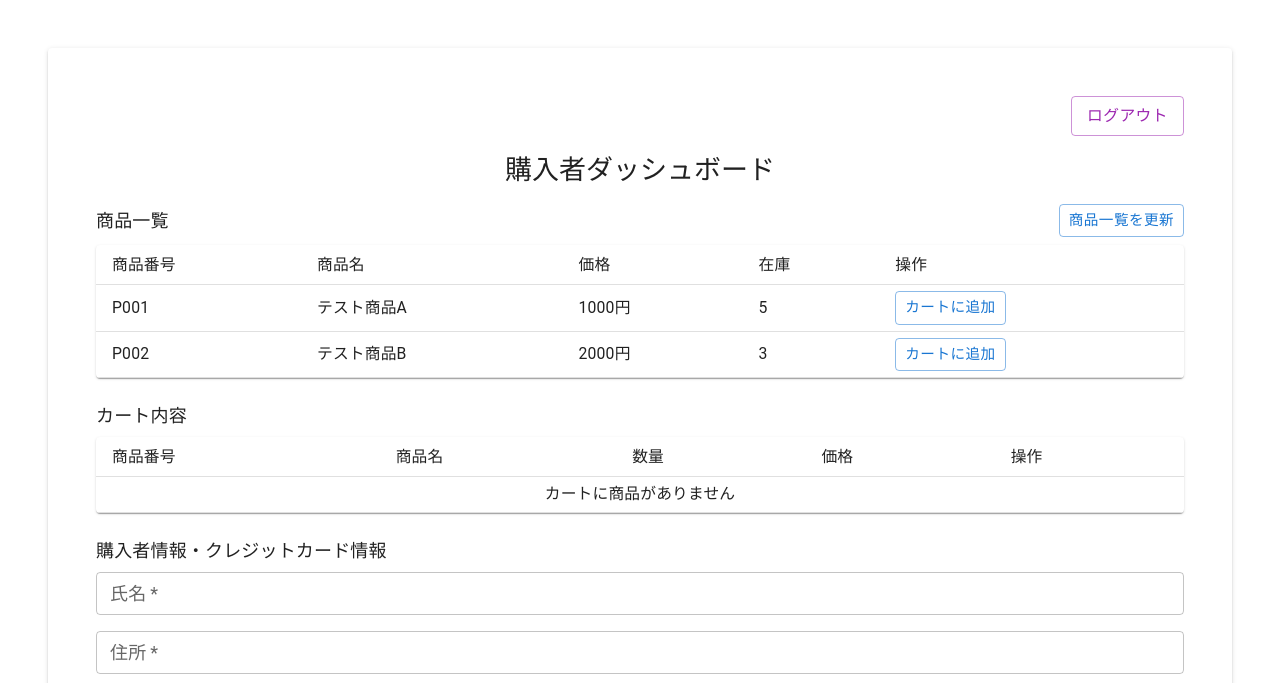
Test case: PurchaserDashboard › カートに商品を追加・削除できる
The image size is (1280, 683).
Note: 商品をカートに追加
Click the button "カートに追加" in the row of "P001" at [950, 308], box [895,291,1006,325]
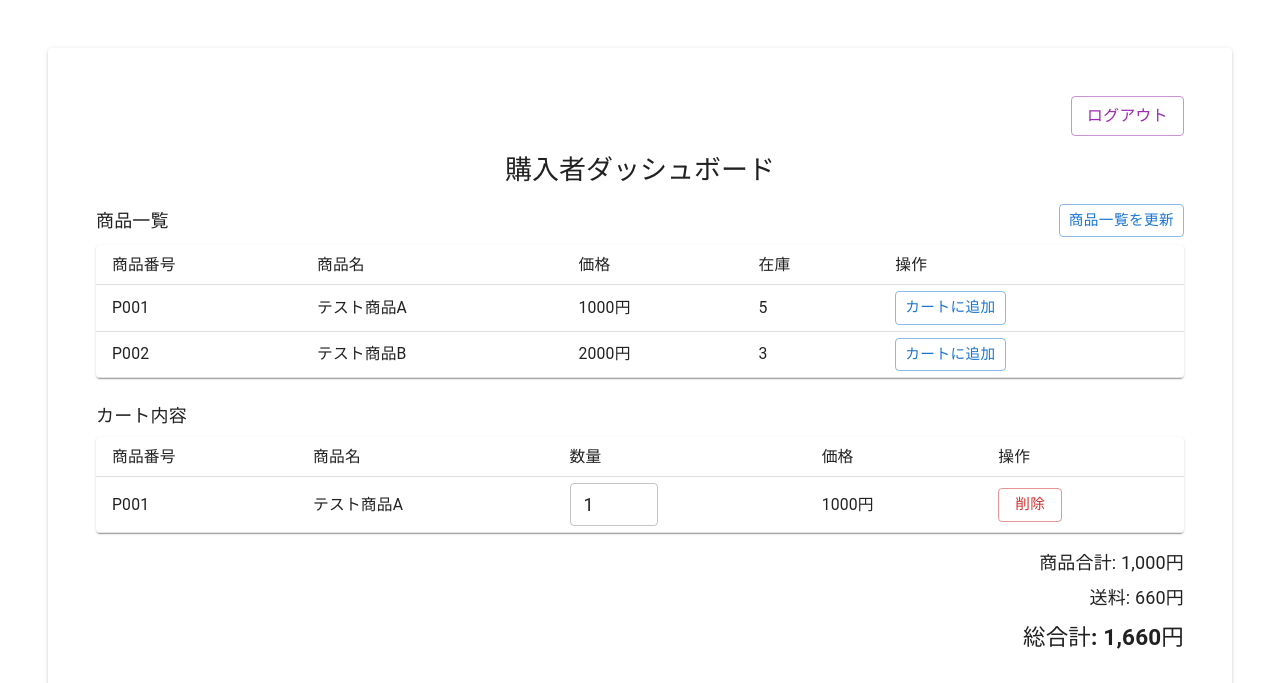
Check: the text "カートに商品がありません" is gone
Check: the button "削除" is shown
Note:  カートから削除
Click the button "削除" at [1030, 505], box [998,488,1062,522]
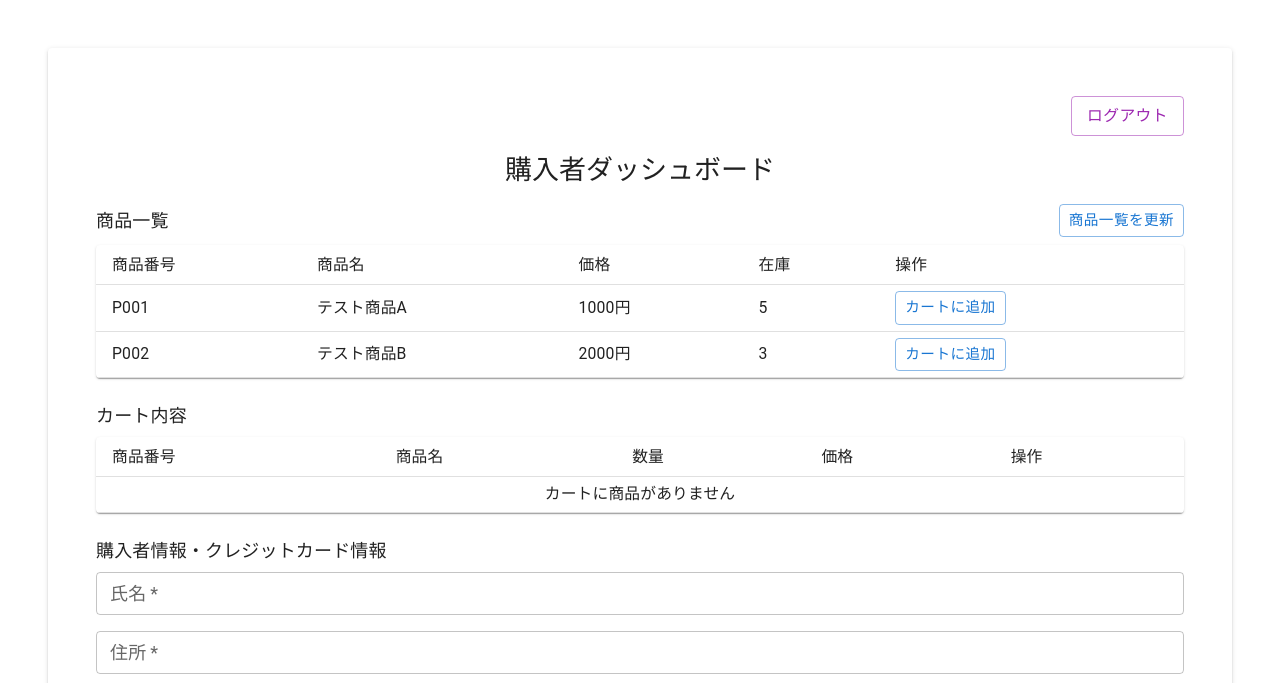
Check: the text "カートに商品がありません" is shown, box [96,477,1184,512]
